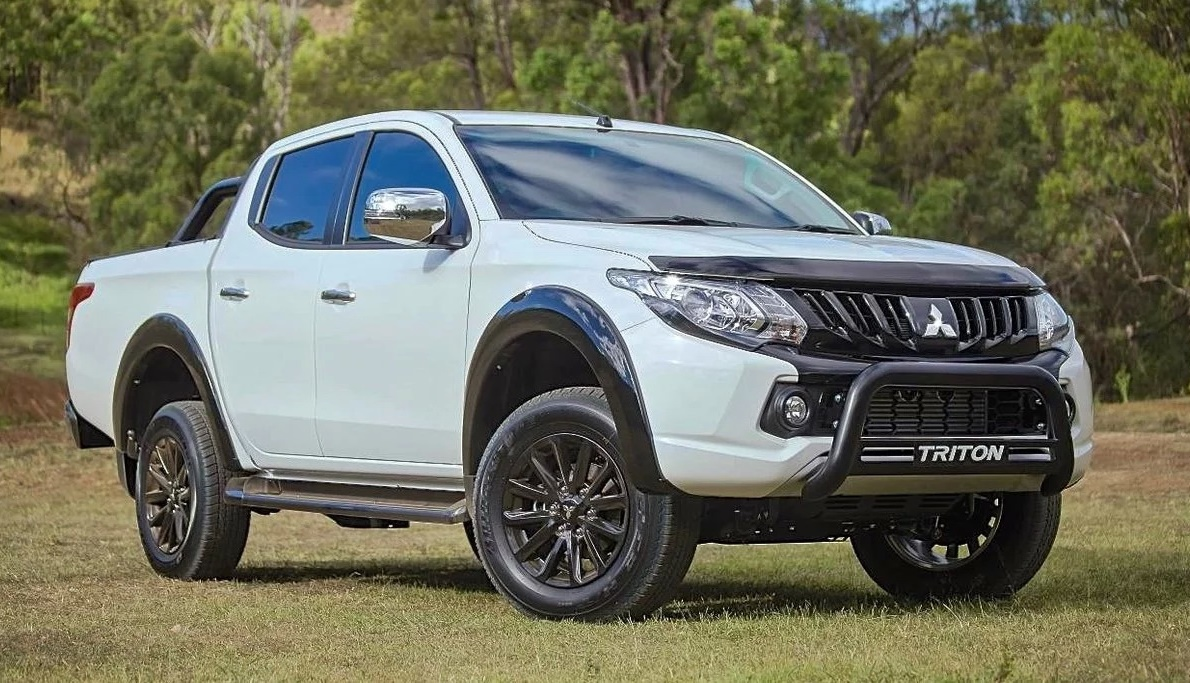pickup: (55, 105, 1096, 634)
